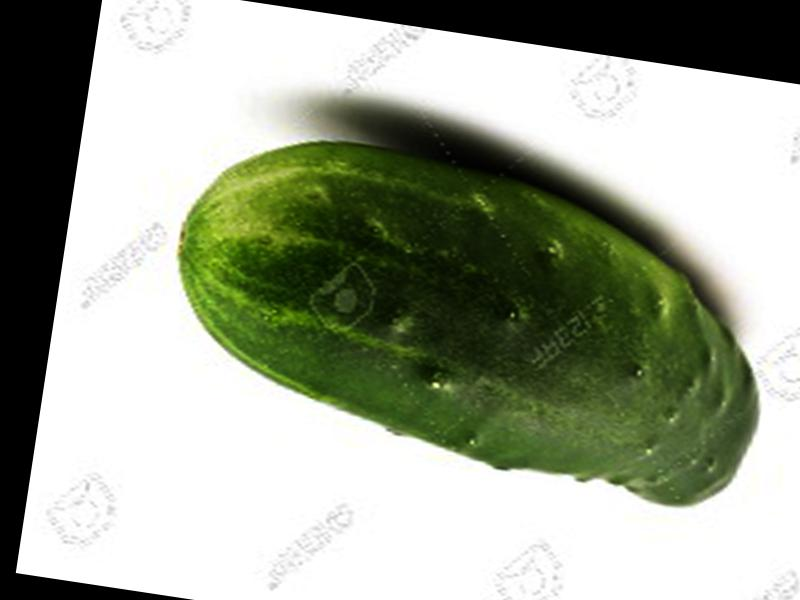Cucumber: (151, 116, 790, 516)
